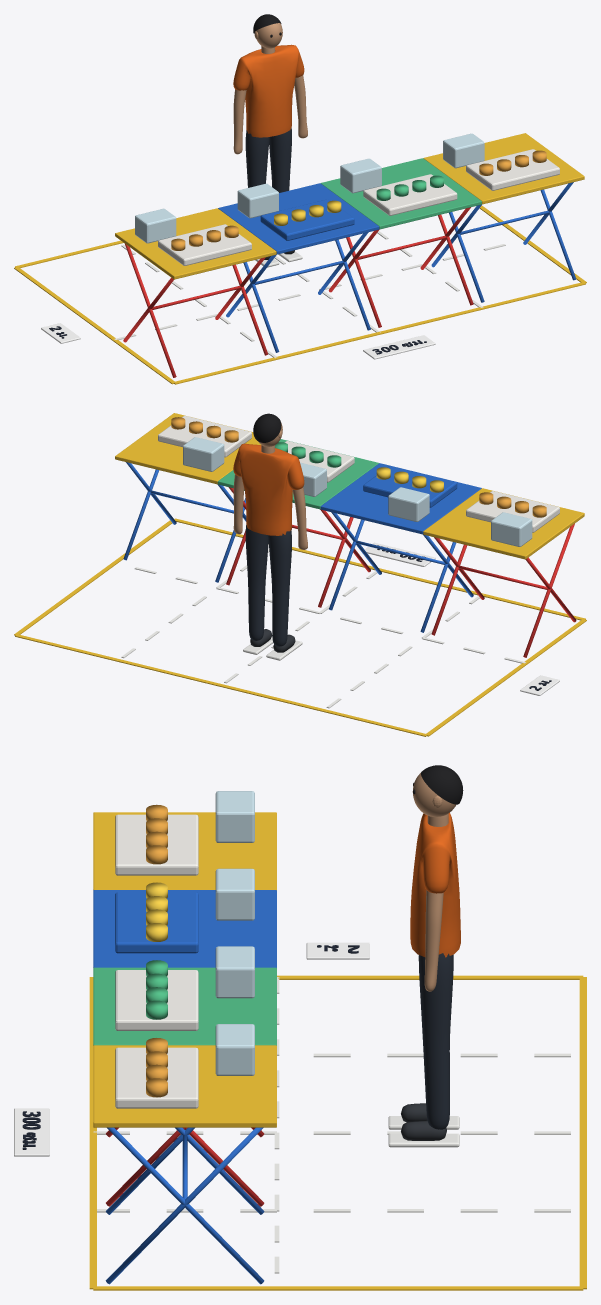
The model's file is lot-food-4.glb.
The picture shows the model from 3 angles, top to bottom: view 1: azimuth 30°, elevation 25°; view 2: azimuth 150°, elevation 25°; view 3: azimuth 270°, elevation 25°; orthographic projection. The views are drawn at different scales.
Parts seen in each view (by area): view 1: sk.002, Cube, Cube.009, Cube.003, Cube.006, Cube.007, Cube.004, Cube.001, Cube.010, Cube.012, sk.001, Cube.002 (+11 smaller); view 2: sk.002, Cube, Cube.003, Cube.009, sk, sk.001, Cube.015, Cube.006, Cube.004, Cube.001, Cube.010, Cube.012 (+13 smaller); view 3: Cube.009, Cube.006, Cube.003, Cube, sk.002, sk.001, Cube.004, Cube.001, Cube.010, Cube.007, Cube.015, Cube.014 (+17 smaller).
Part boxes in pixels (x1,y1,x2,y2): sk.002: (233, 44, 304, 137); Cube: (115, 208, 276, 279); Cube.009: (423, 133, 584, 204); Cube.003: (218, 183, 379, 254); Cube.006: (320, 158, 481, 229); Cube.007: (363, 174, 457, 215); Cube.004: (260, 199, 354, 240); Cube.001: (158, 224, 251, 265); Cube.010: (466, 149, 559, 190); Cube.012: (173, 282, 585, 384); sk.001: (269, 128, 291, 192); Cube.002: (135, 208, 176, 243); sk.002: (233, 443, 304, 535); Cube: (423, 488, 584, 559); Cube.003: (320, 463, 481, 534); Cube.009: (115, 413, 260, 484); sk: (268, 529, 291, 646); sk.001: (245, 525, 268, 640); Cube.015: (15, 634, 426, 736); Cube.006: (217, 439, 378, 509); Cube.004: (363, 466, 457, 507); Cube.001: (466, 491, 559, 532); Cube.010: (158, 416, 251, 457); Cube.012: (174, 518, 585, 620); Cube.009: (93, 1045, 276, 1127); Cube.006: (93, 967, 276, 1045); Cube.003: (93, 890, 276, 967); Cube: (93, 812, 276, 890); sk.002: (410, 812, 460, 957); sk.001: (418, 953, 453, 1129); Cube.004: (115, 892, 198, 953); Cube.001: (115, 814, 198, 875); Cube.010: (115, 1047, 198, 1108); Cube.007: (115, 970, 198, 1030); Cube.015: (579, 977, 586, 1289); Cube.014: (93, 1286, 583, 1290).
Bounding box in the file's own units: 3.34 × 1.65 × 2.34.
